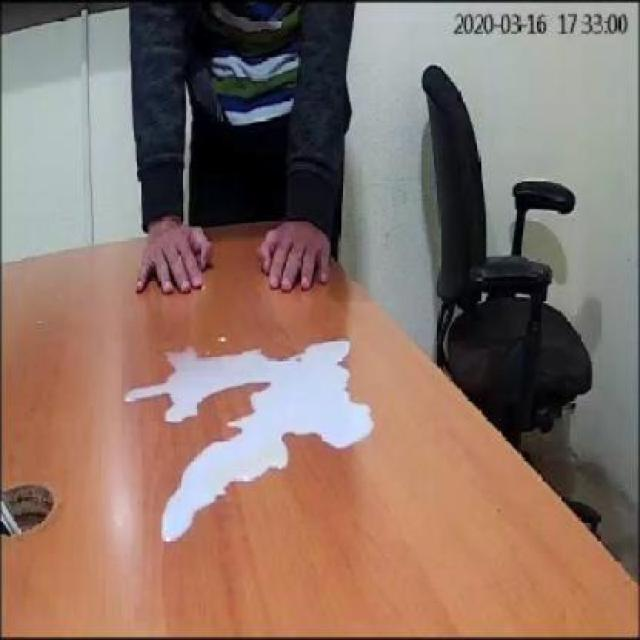spillage: (124, 341, 374, 542)
